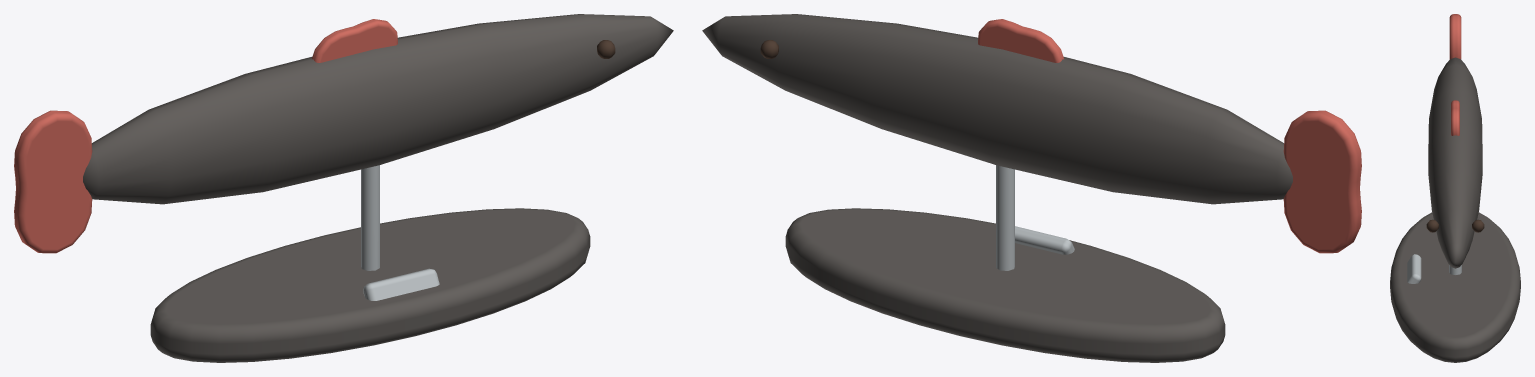
Rendered from arapaima_model.glb.
The picture shows the model from 3 angles, left to right: view 1: azimuth 30°, elevation 25°; view 2: azimuth 150°, elevation 25°; view 3: azimuth 270°, elevation 25°; orthographic projection. The views are drawn at different scales.
Visible parts, largest first — view 1: arapaima_model_mesh; view 2: arapaima_model_mesh; view 3: arapaima_model_mesh.
Boxes of the visible parts, left/top/right/bottom form: arapaima_model_mesh: left=14, top=14, right=673, bottom=362; arapaima_model_mesh: left=702, top=14, right=1361, bottom=362; arapaima_model_mesh: left=1390, top=14, right=1520, bottom=362.
Bounding box in the file's own units: 0.9211 × 0.379 × 0.24.
